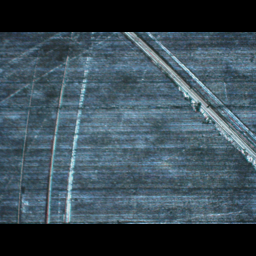d: (113, 31, 256, 170), (11, 40, 101, 223)
